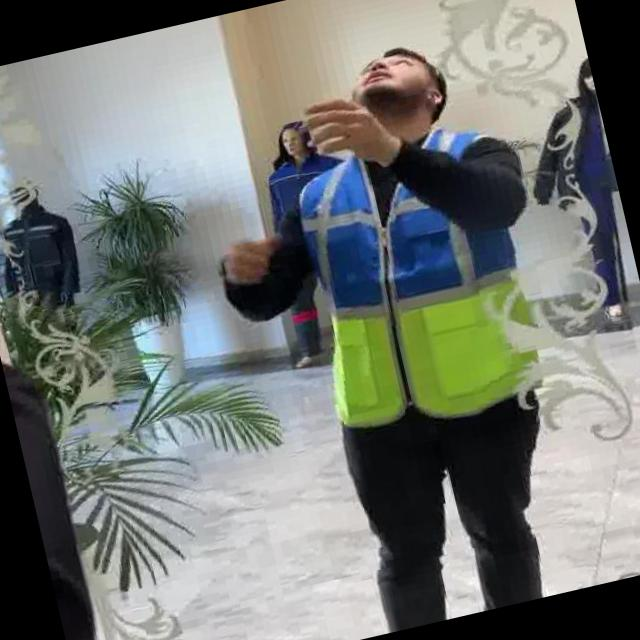safety_vest: (274, 116, 560, 454)
